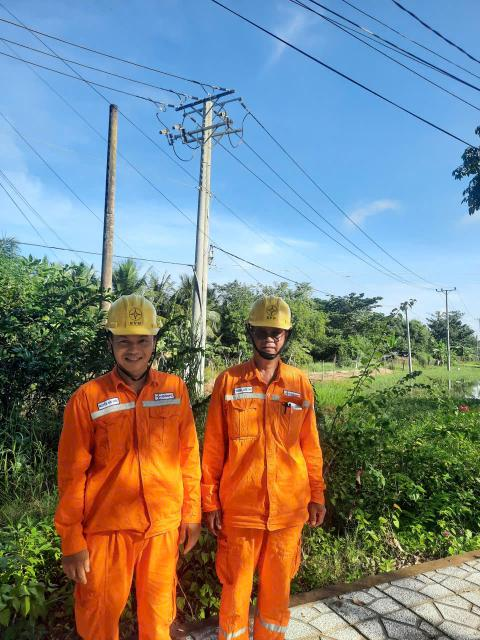helmet: (100, 267, 167, 348), (230, 287, 303, 343)
